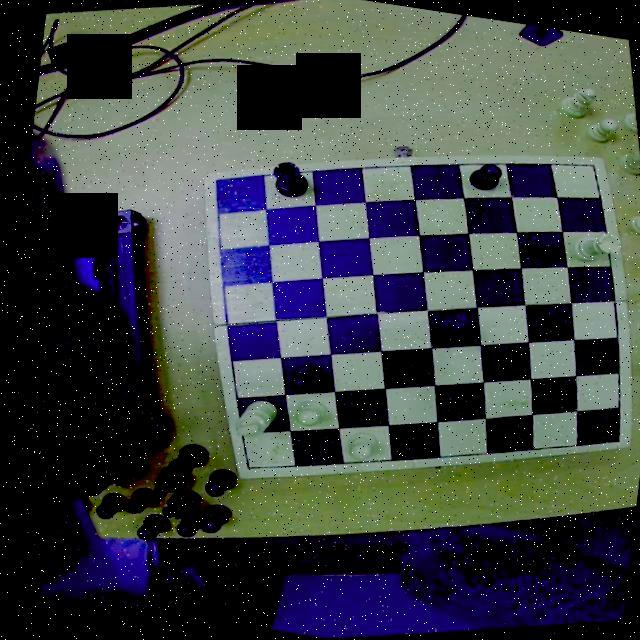chess-table-corners: (200, 170, 233, 200), (228, 452, 258, 481), (594, 430, 628, 454), (578, 158, 606, 184)
